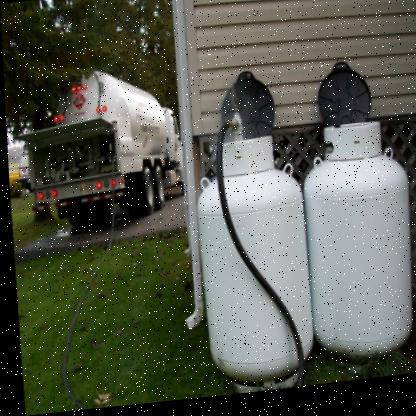gas-tank: (177, 123, 319, 401), (286, 100, 415, 380)
